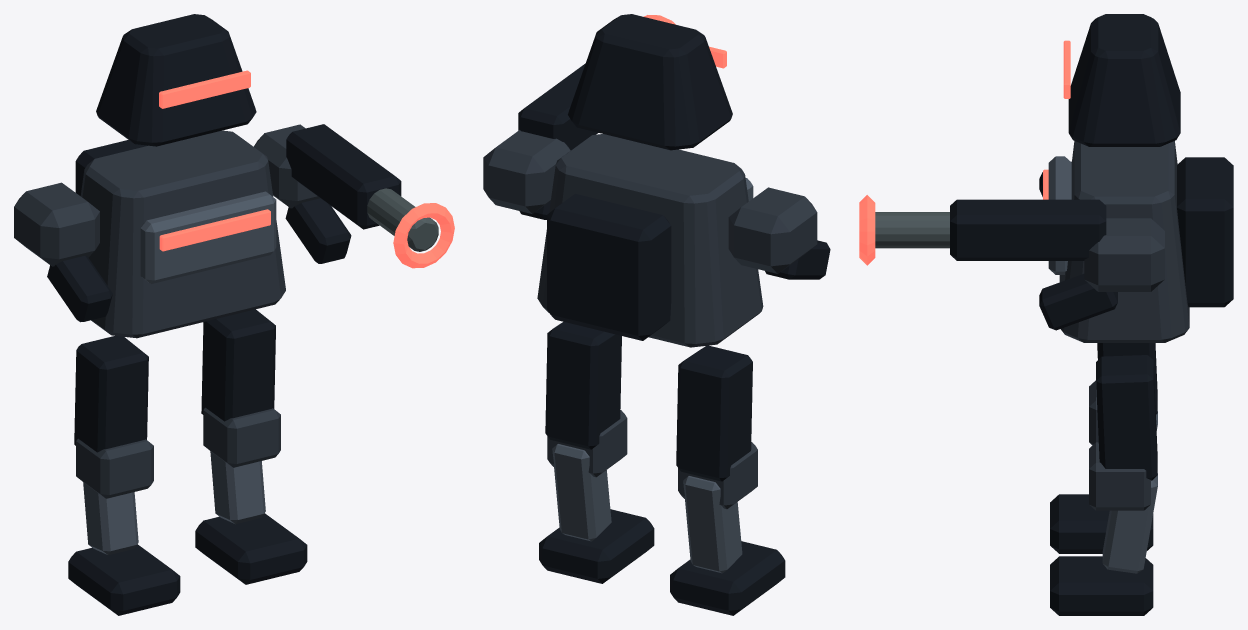
File: m_sentinel.glb
3 views of the same model, side by side, from view 1: azimuth 30°, elevation 25°; view 2: azimuth 150°, elevation 25°; view 3: azimuth 270°, elevation 25° (orthographic). The views are drawn at different scales.
Parts seen in each view (by area): view 1: Body armor, Leg armor, Leg armor.001; view 2: Body armor, Leg armor, Leg armor.001; view 3: Body armor, Leg armor.001, Leg armor.
Boxes of the visible parts, box(x1,y1,x2,y2) form: Body armor: box(14, 14, 454, 338); Leg armor: box(68, 336, 180, 615); Leg armor.001: box(195, 309, 307, 584); Body armor: box(483, 14, 830, 347); Leg armor: box(670, 345, 785, 615); Leg armor.001: box(539, 321, 654, 583); Body armor: box(859, 14, 1233, 342); Leg armor.001: box(1050, 355, 1157, 615); Leg armor: box(1050, 343, 1157, 553).
Size of the model in its own units: 1.5 by 2.59 by 1.63.
